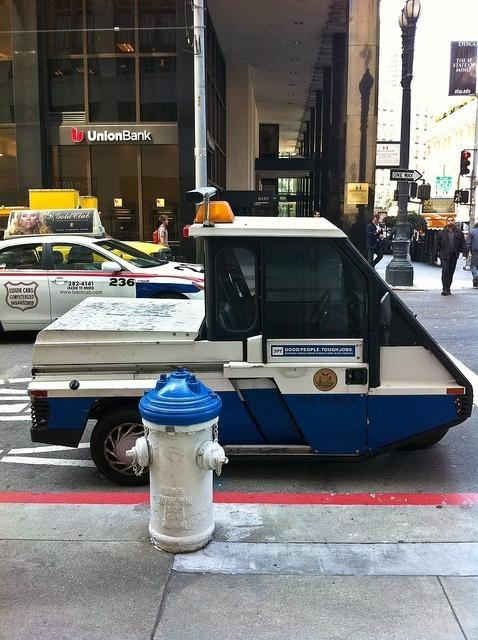car: (8, 238, 198, 332)
truck: (24, 198, 478, 484)
